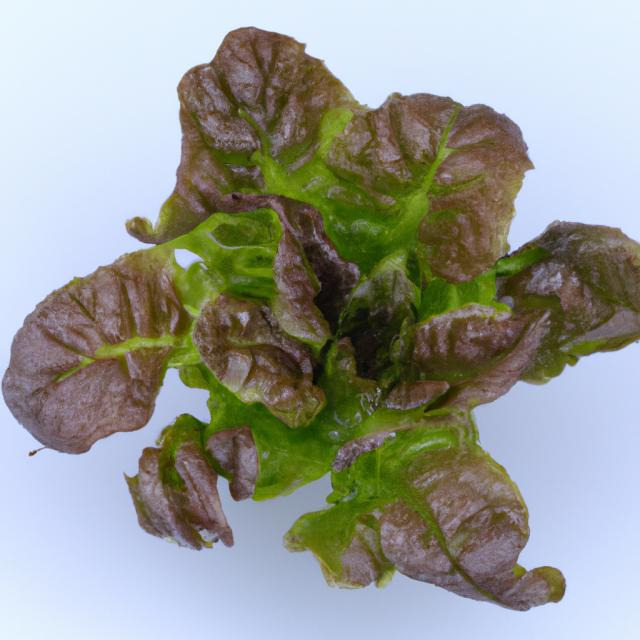-P: (0, 6, 640, 622)
